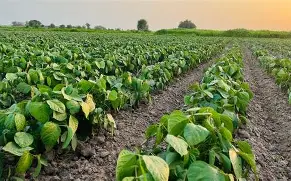crops: (115, 49, 259, 180), (0, 40, 125, 177), (240, 105, 291, 178), (254, 48, 291, 104), (101, 72, 150, 112), (146, 107, 192, 147), (96, 44, 154, 75), (131, 31, 220, 50), (115, 148, 167, 180), (0, 23, 145, 34), (55, 150, 110, 179), (203, 49, 246, 85), (58, 86, 94, 119), (219, 81, 253, 115), (184, 82, 221, 111), (10, 150, 45, 178), (244, 35, 291, 54), (66, 55, 103, 79), (142, 60, 171, 88), (0, 101, 25, 133), (218, 27, 288, 38), (91, 109, 115, 136), (154, 26, 200, 34), (193, 28, 220, 36), (256, 54, 271, 65)
